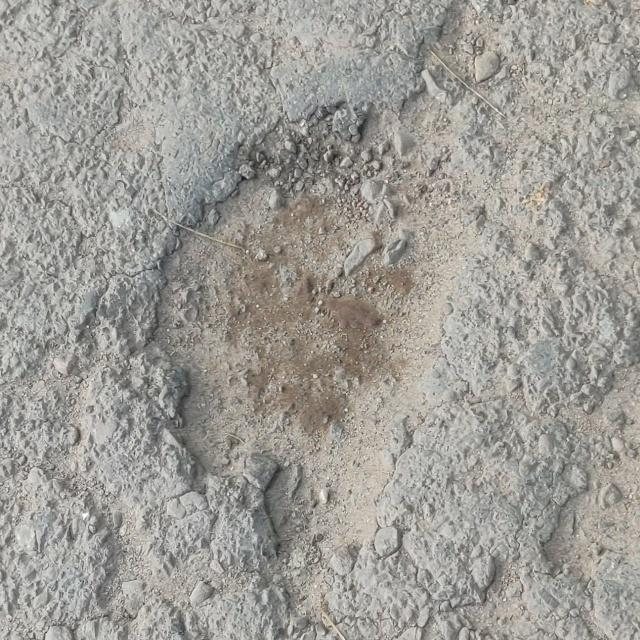Pothole: (115, 83, 548, 503)
